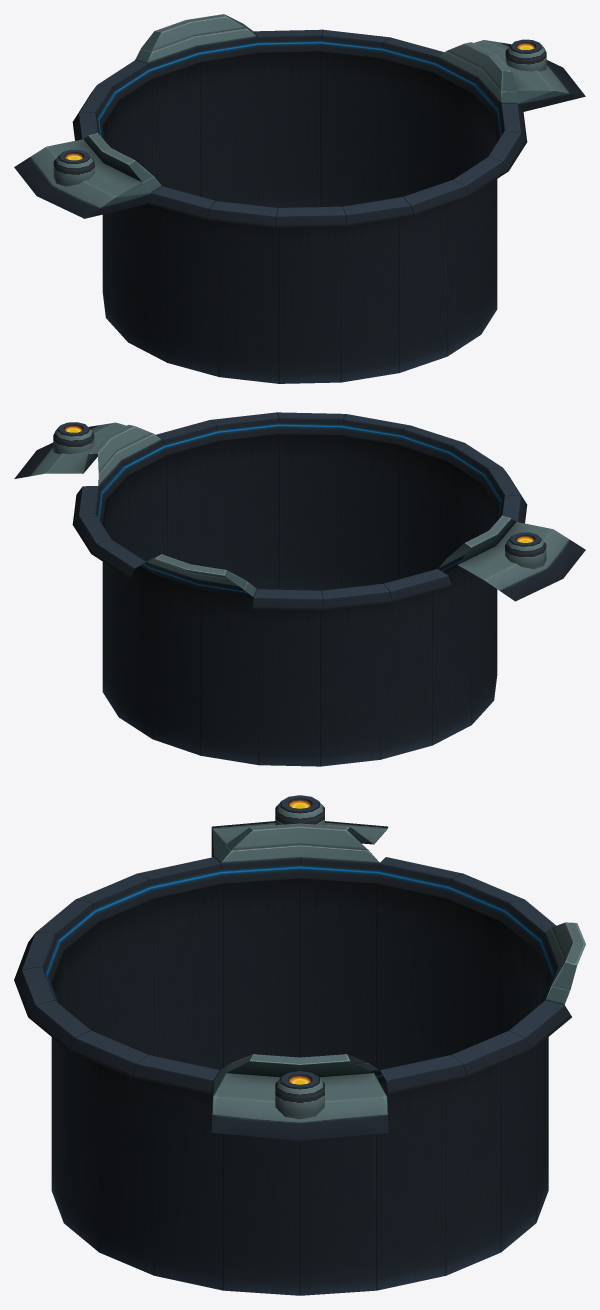
The model's file is ts_zjmdm002.FBX.
3 views of the same model, one above another, from view 1: azimuth 30°, elevation 25°; view 2: azimuth 150°, elevation 25°; view 3: azimuth 270°, elevation 25° (orthographic). The views are drawn at different scales.
Visible parts, largest first — view 1: ts_zjmdm002; view 2: ts_zjmdm002; view 3: ts_zjmdm002.
Part boxes in pixels (left/top/right/bottom): ts_zjmdm002: left=14, top=14, right=585, bottom=383; ts_zjmdm002: left=14, top=412, right=585, bottom=766; ts_zjmdm002: left=14, top=795, right=585, bottom=1295.
Size of the model in its own units: 6.12 by 2.22 by 4.6.
